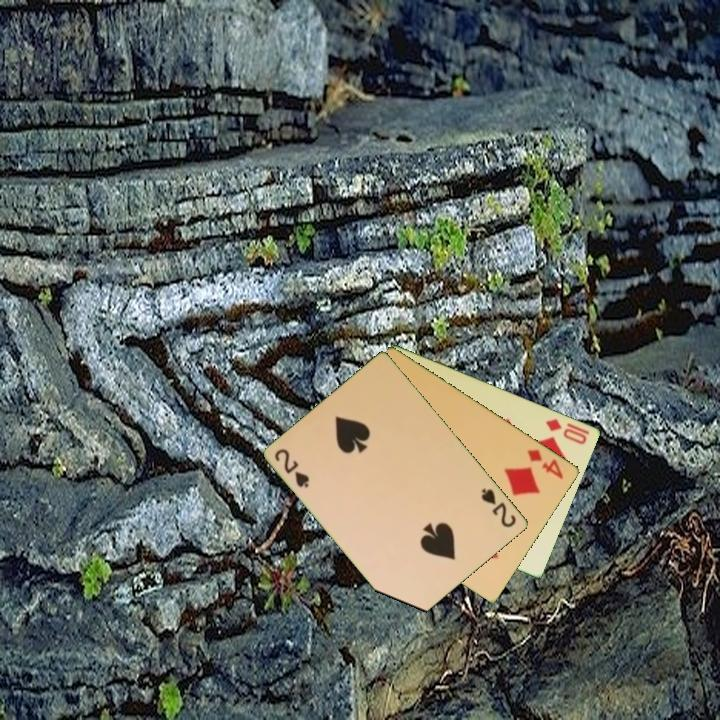10d: (542, 415, 590, 447)
2s: (271, 445, 313, 491), (478, 485, 520, 530)
4d: (524, 445, 566, 482)
